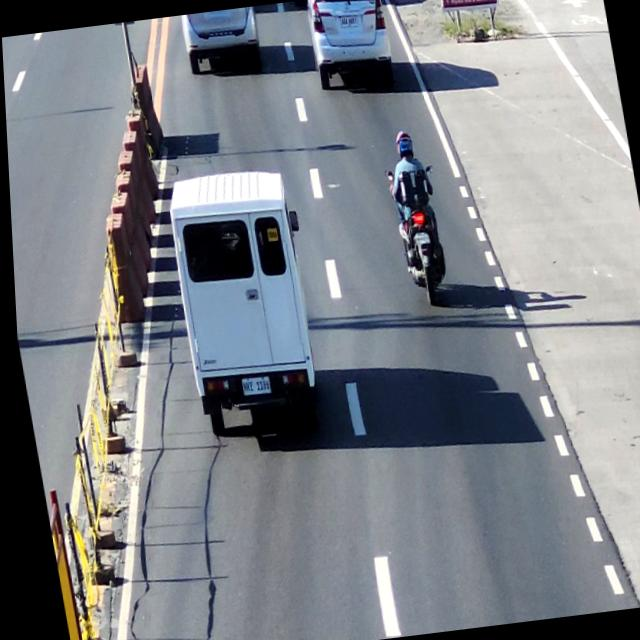Car: (159, 163, 324, 434), (300, 0, 400, 93), (179, 7, 262, 76)
License-Plate: (234, 371, 271, 404), (337, 11, 360, 31), (408, 230, 430, 246)
Motorcycle: (378, 132, 458, 309)
